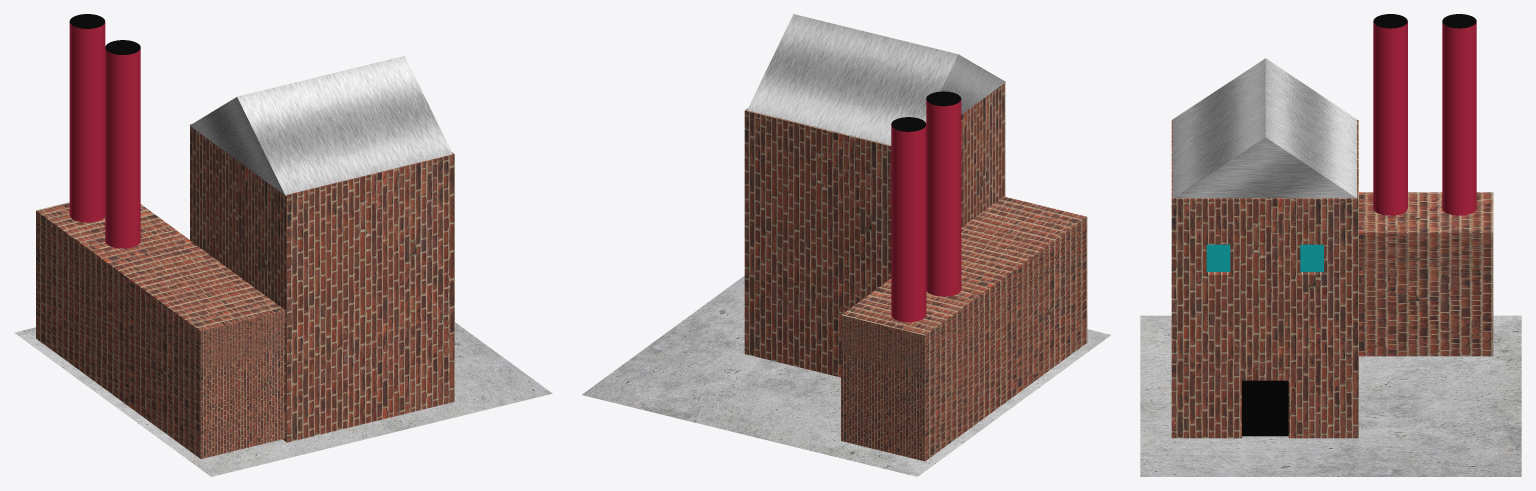
The model's file is factory_option_burn.dae.
3 renders of one model, left to right at view 1: azimuth 30°, elevation 25°; view 2: azimuth 150°, elevation 25°; view 3: azimuth 270°, elevation 25°, orthographic. The views are drawn at different scales.
Visible parts, largest first — view 1: Cube_001, Cube, Cylinder, Cube_002, Cylinder_001, Plane_001; view 2: Cube_001, Plane_001, Cube, Cube_002, Cylinder, Cylinder_001; view 3: Cube_001, Plane_001, Cylinder, Cylinder_001, Cube, Cube_002.
Boxes of the visible parts, <box> form: Cube_001: <box>190,124,454,442</box>; Cube: <box>36,252,285,458</box>; Cylinder: <box>190,56,452,195</box>; Cube_002: <box>36,202,285,372</box>; Cylinder_001: <box>69,14,140,248</box>; Plane_001: <box>14,322,552,476</box>; Cube_001: <box>744,83,1005,377</box>; Plane_001: <box>582,276,1110,476</box>; Cube: <box>841,255,1087,461</box>; Cube_002: <box>841,196,1087,376</box>; Cylinder: <box>747,14,1005,145</box>; Cylinder_001: <box>891,91,961,322</box>; Cube_001: <box>1171,120,1358,438</box>; Plane_001: <box>1140,315,1521,476</box>; Cylinder: <box>1172,58,1357,198</box>; Cylinder_001: <box>1373,14,1476,215</box>; Cube: <box>1359,270,1493,356</box>; Cube_002: <box>1359,192,1493,272</box>.
Bounding box in the file's own units: 8 × 8 × 7.33.
Materials: 9 (5 with a texture image).
